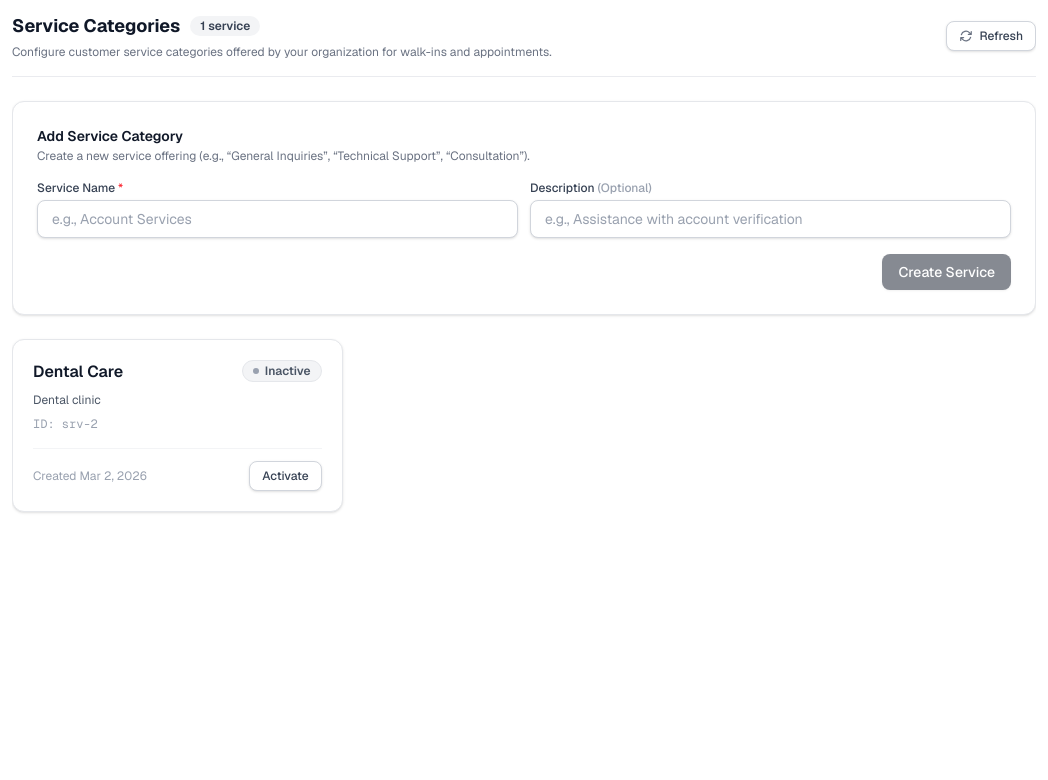
components/admin/ServiceManagement › Service activation and deactivation controls › successfully activates an inactive service and updates UI status and button
Expected: the heading "Dental Care" is shown, [33,360,123,384]
Expected: the text "Inactive" is shown, [242,360,322,382]
What coordinates should you click on to do the following:
click the button with aria-label "activate dental care"
I would click on:
 (285, 476)
Its box is [249,461,322,491].
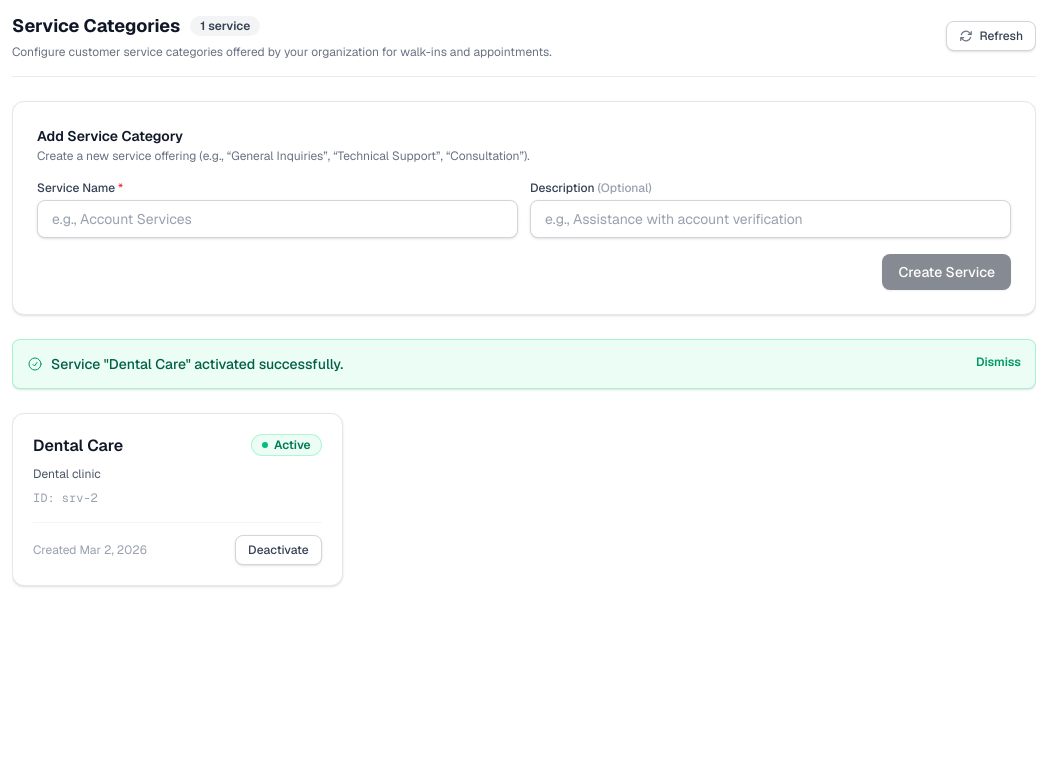
Expected: the text "Active" is shown, [251,434,322,456]
Now the text "Service \"Dental Care\" activated successfully." is shown, box [51,354,343,374]
Now the button with aria-label "deactivate dental care" is shown, box [235,535,322,565]
